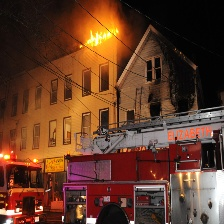fire: (79, 24, 120, 48)
smoke: (63, 1, 125, 30)
